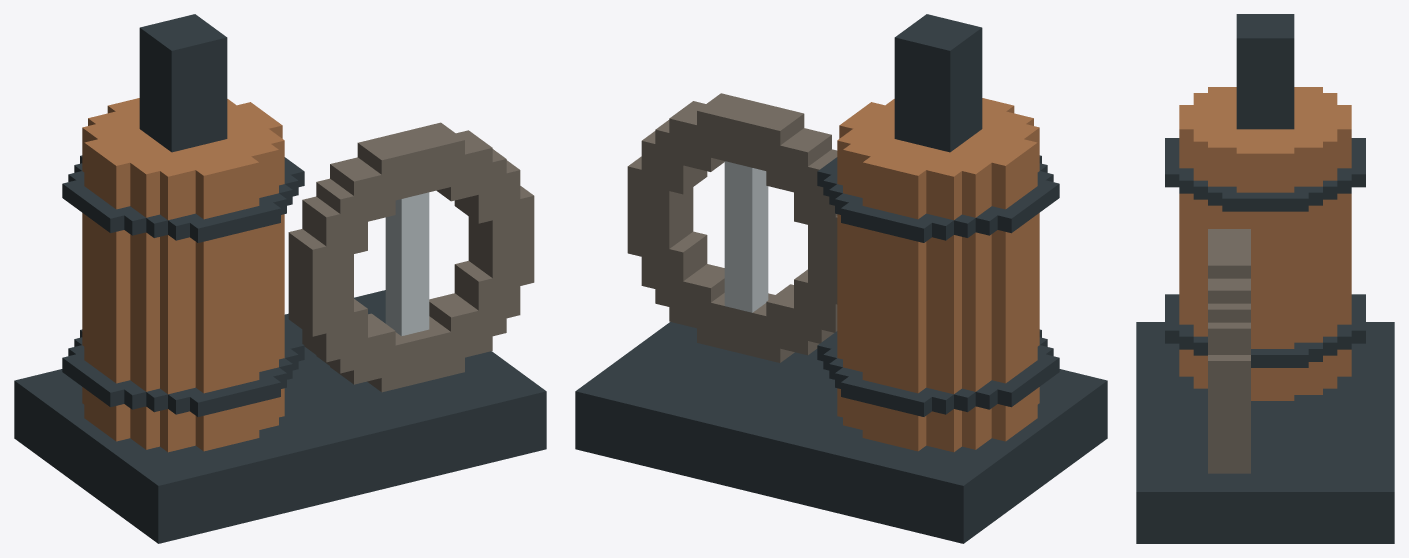
File: heat_engine.glb
The picture shows the model from 3 angles, left to right: view 1: azimuth 30°, elevation 25°; view 2: azimuth 150°, elevation 25°; view 3: azimuth 270°, elevation 25°; orthographic projection. The views are drawn at different scales.
Visible parts, largest first — view 1: heat_engine/housing, heat_engine/shaft, heat_engine/housing_lid_0; view 2: heat_engine/housing, heat_engine/shaft, heat_engine/housing_lid_0; view 3: heat_engine/housing, heat_engine/housing_lid_0, heat_engine/shaft.
Part boxes in pixels (box(x1,y1,x2,y2)): heat_engine/housing: box(14, 14, 546, 543); heat_engine/shaft: box(288, 122, 534, 392); heat_engine/housing_lid_0: box(82, 97, 284, 191); heat_engine/housing: box(575, 14, 1107, 543); heat_engine/shaft: box(627, 93, 837, 362); heat_engine/housing_lid_0: box(837, 98, 1039, 191); heat_engine/housing: box(1136, 14, 1394, 543); heat_engine/housing_lid_0: box(1179, 87, 1351, 166); heat_engine/shaft: box(1208, 229, 1250, 473).
Bounding box in the file's own units: 0.9375 × 0.9375 × 0.5625.
